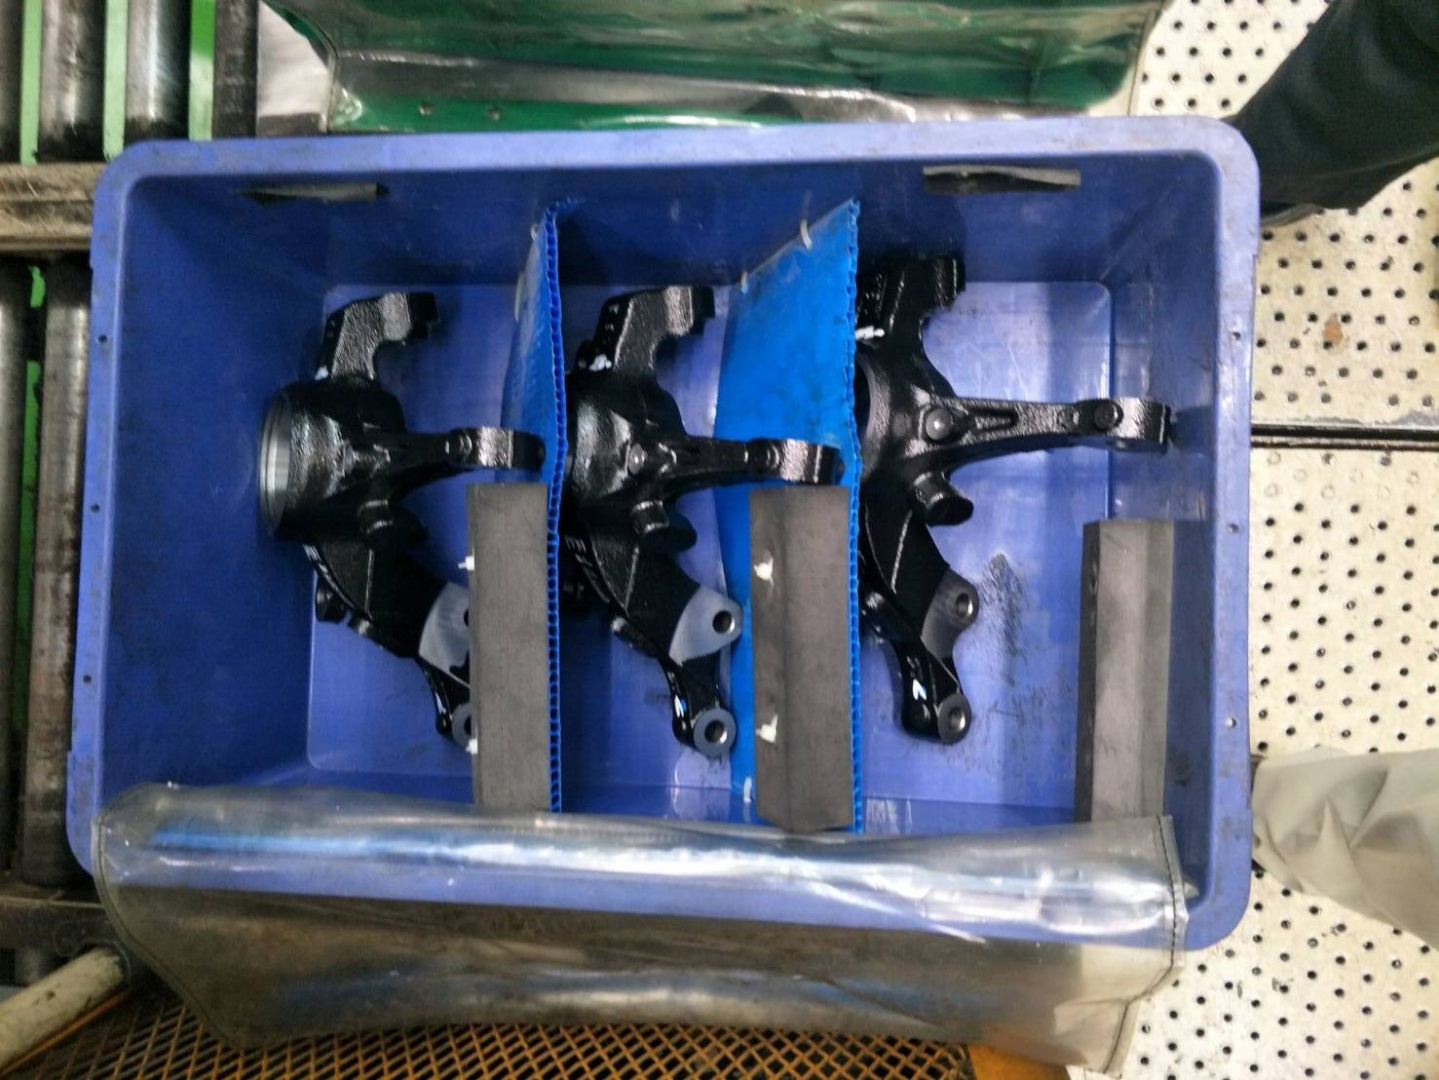non-rh: (854, 236, 1176, 753), (249, 281, 551, 766), (558, 278, 850, 767)
